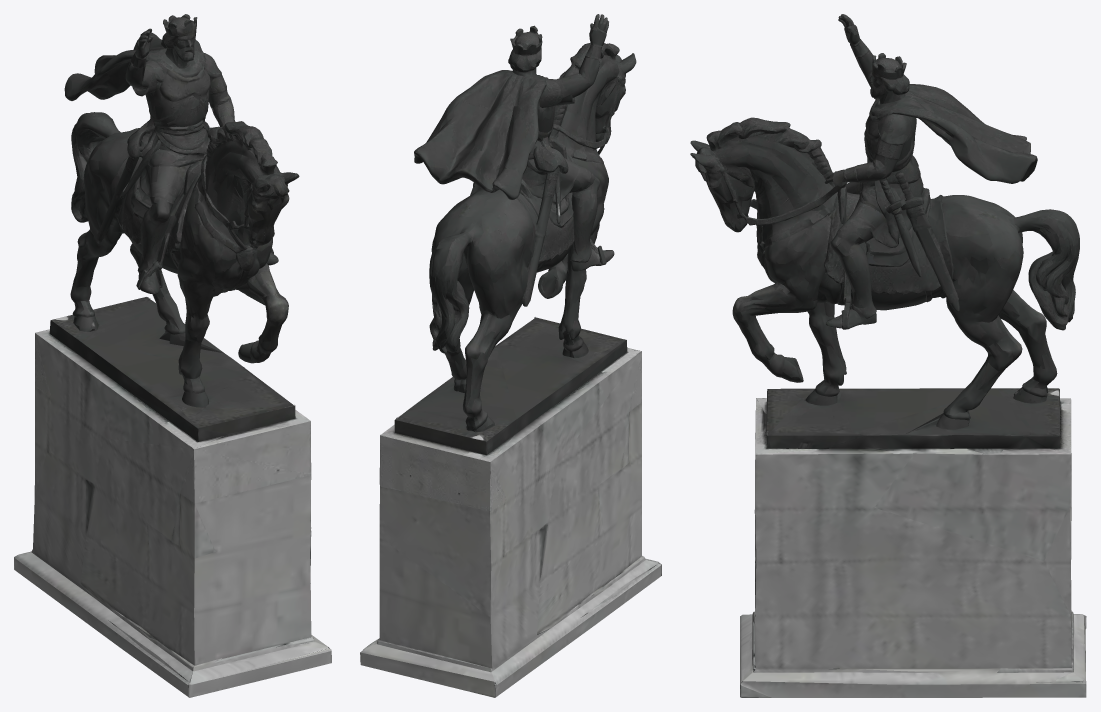
Rendered from gorgasali.glb.
3 renders of one model, left to right at view 1: azimuth 30°, elevation 25°; view 2: azimuth 150°, elevation 25°; view 3: azimuth 270°, elevation 25°, orthographic. The views are drawn at different scales.
Bounding box in the file's own units: 0.4556 × 1.9 × 1.1.
Materials: 1 (1 with a texture image).
